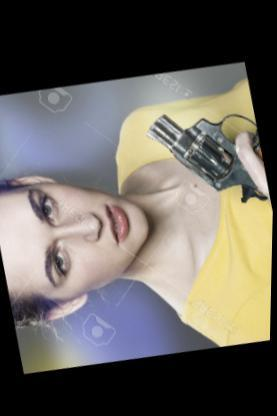pistol: (142, 91, 271, 220)
